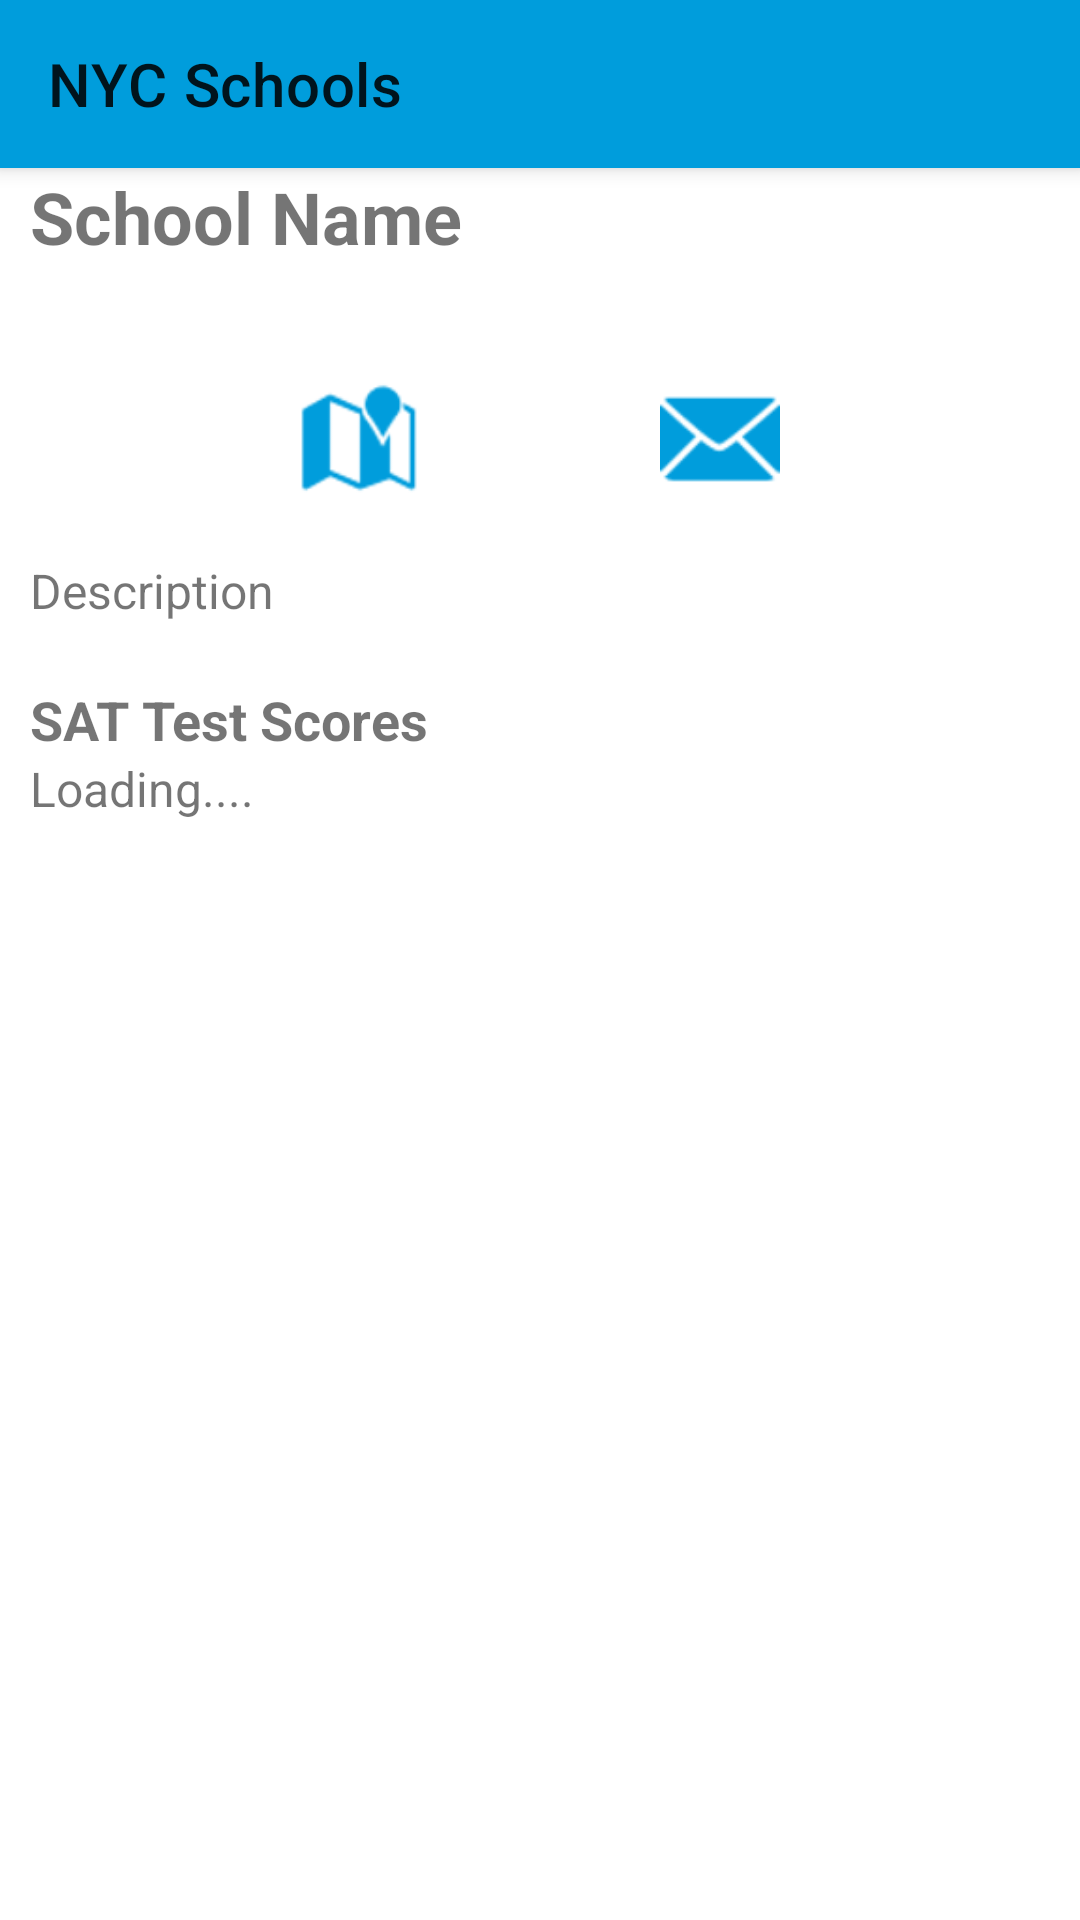

Icon click points for this 1080 × 1920 phone screenshot, format point (x, y):
Directions: point (359, 438)
email: point (720, 439)
